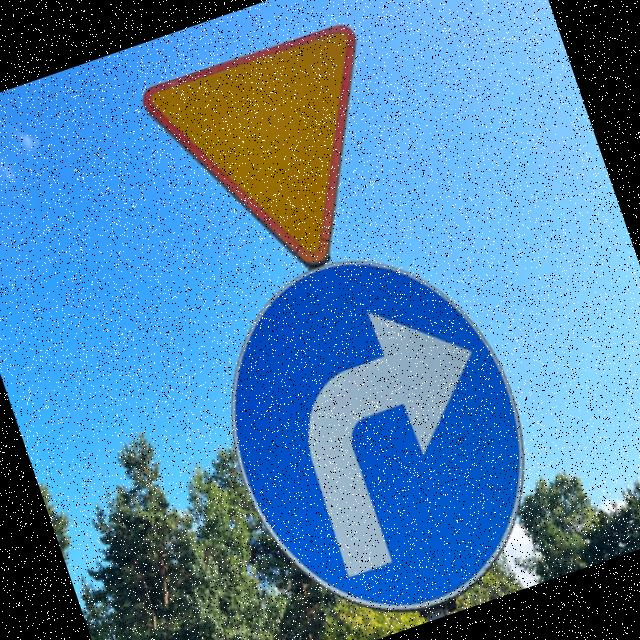compulsory_keep_right: (169, 202, 596, 640)
give_way: (119, 0, 448, 313)
